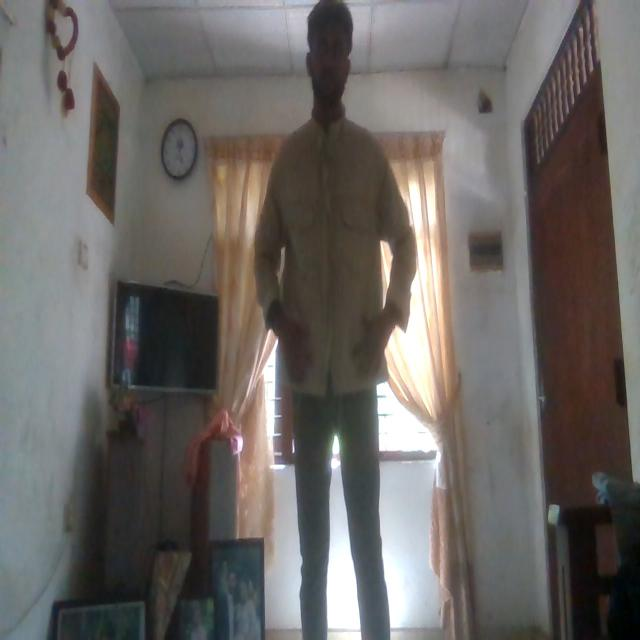Helmet_Wearer: (257, 111, 419, 415)
Person: (258, 0, 416, 640)
